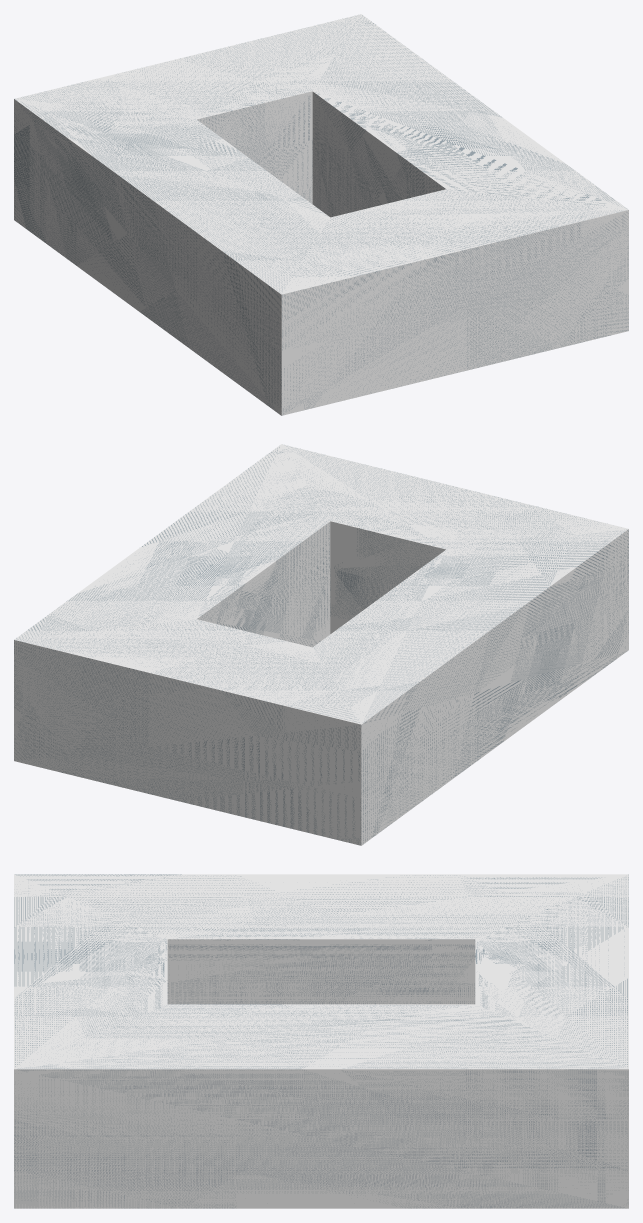
File: keyHandle.fbx
3 renders of one model, top to bottom at view 1: azimuth 30°, elevation 25°; view 2: azimuth 150°, elevation 25°; view 3: azimuth 270°, elevation 25°, orthographic. The views are drawn at different scales.
Parts seen in each view (by area): view 1: Model; view 2: Model; view 3: Model.
Part boxes in pixels (bbox=[...]): Model: bbox=[14, 14, 628, 415]; Model: bbox=[14, 444, 628, 845]; Model: bbox=[14, 874, 628, 1208].
Size of the model in its own units: 75 by 25 by 100.
